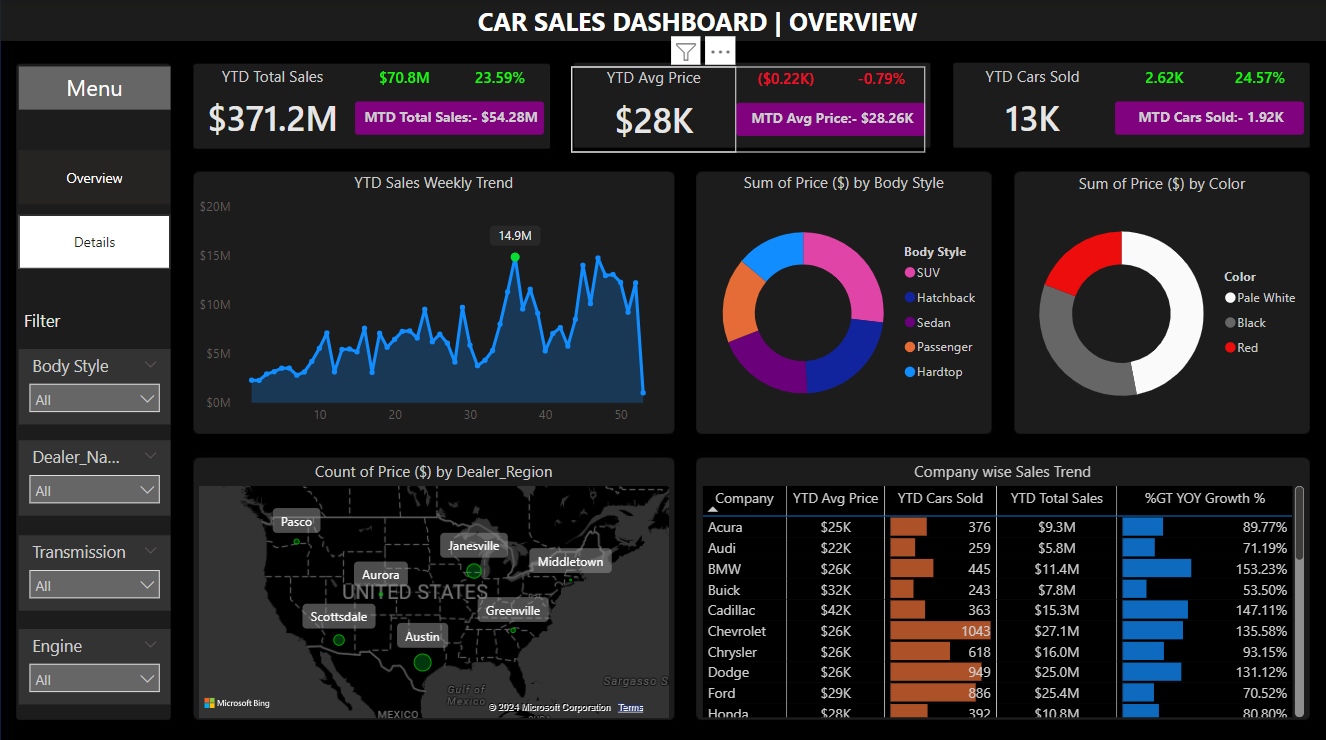

The page's visual inventory and layout, read from the dashboard file:
{"tool":"powerbi","page":{"name":"Overview","canvas":[1280,720],"ordinal":0},"visuals":[{"type":"card","title":"YTD Cars Sold","fields":{"Values":["car_data.YTD Cars Sold"]},"box":[916.3,64,159.3,82.7],"z":0,"group":"g3"},{"type":"group","id":"g1","title":"Group 1","box":[182.7,64.2,342,82.7],"z":0},{"type":"card","title":"YTD Total Sales","fields":{"Values":["car_data.YTD Total Sales"]},"box":[182.7,64.2,159.3,82.7],"z":0,"group":"g1"},{"type":"card","title":"YTD Avg Price","fields":{"Values":["car_data.YTD Avg Price"]},"box":[550.6,65.4,159.3,82.7],"z":0,"group":"g2"},{"type":"card","fields":{"Values":["car_data.Cars sold Difference"]},"box":[1084.2,64,79,28.4],"z":1000,"group":"g3"},{"type":"card","fields":{"Values":["car_data.Sales Difference"]},"box":[350.6,64.2,79,28.4],"z":1000,"group":"g1"},{"type":"group","id":"g2","title":"Group 1","box":[550.6,65.4,342,82.7],"z":1000},{"type":"card","fields":{"Values":["car_data.Avg Price Diff"]},"box":[718.5,65.4,79,28.4],"z":1000,"group":"g2"},{"type":"group","id":"g3","title":"Group 1","box":[916.3,64,342,82.7],"z":2000},{"type":"card","fields":{"Values":["car_data.YOY cars sold growth %"]},"box":[1176.8,64,77.8,28.4],"z":2000,"group":"g3"},{"type":"card","fields":{"Values":["car_data.YOY Growth %"]},"box":[443.2,64.2,77.8,28.4],"z":2000,"group":"g1"},{"type":"card","fields":{"Values":["car_data.YOY Avg Growth %"]},"box":[811.1,65.4,77.8,28.4],"z":2000,"group":"g2"},{"type":"card","fields":{"Values":["car_data.MTD Cars KPI"]},"box":[1075.6,98.6,182.7,32.1],"z":3000,"group":"g3"},{"type":"card","fields":{"Values":["car_data.MTD KPI"]},"box":[342,98.8,182.7,32.1],"z":3000,"group":"g1"},{"type":"card","fields":{"Values":["car_data.MTD avg KPI"]},"box":[709.9,100,182.7,32.1],"z":3000,"group":"g2"},{"type":"areaChart","title":"YTD Sales Weekly Trend","fields":{"Category":["calendar_table.Week"],"Y":["Sum(car_data.Price ($))","car_data.Max Point"]},"box":[187.3,166.7,463.3,253.3],"z":3000},{"type":"donutChart","fields":{"Category":["car_data.Body Style"],"Y":["Sum(car_data.Price ($))"]},"box":[672.7,166.8,282.3,253.2],"z":4000},{"type":"donutChart","fields":{"Y":["Sum(car_data.Price ($))"],"Category":["car_data.Color"]},"box":[977.7,167.7,286.2,252.3],"z":5000},{"type":"map","fields":{"Category":["car_data.Dealer_Region"],"Size":["CountNonNull(car_data.Price ($))"]},"box":[187.4,444.8,463.2,254],"z":6000},{"type":"tableEx","title":"Company wise Sales Trend","fields":{"Values":["car_data.Company","car_data.YTD Avg Price","car_data.YTD Cars Sold","car_data.YTD Total Sales","car_data.YOY Growth %"]},"box":[672.3,445.4,591.5,253.1],"z":7000},{"type":"textbox","box":[451.2,0,443.8,42.5],"z":8000},{"type":"slicer","fields":{"Values":["car_data.Body Style"]},"box":[17.5,337.5,146.2,72.5],"z":9000},{"type":"slicer","fields":{"Values":["car_data.Dealer_Name","car_data.Transmission"]},"box":[17.5,426.2,146.2,72.5],"z":10000},{"type":"slicer","fields":{"Values":["car_data.Transmission"]},"box":[17.5,517.5,146.2,72.5],"z":11000},{"type":"slicer","fields":{"Values":["car_data.Engine"]},"box":[17.5,607.5,146.2,72.5],"z":12000},{"type":"pageNavigator","box":[17.5,146.2,146.2,115],"z":13000},{"type":"textbox","box":[17.5,293.8,73.8,35],"z":14000},{"type":"textbox","box":[17.5,65,146.2,41.2],"z":15000}]}

Visuals, with their boxes in screenshot pixels (x1, y1, x2, y2), scaled from the page's 1280x720 canvas onto the 1326x740 screenshot:
"YTD Cars Sold" card: <region>949, 66, 1114, 151</region>
"Group 1" group: <region>189, 66, 544, 151</region>
"YTD Total Sales" card: <region>189, 66, 354, 151</region>
"YTD Avg Price" card: <region>570, 67, 735, 152</region>
card - car_data.Cars sold Difference: <region>1123, 66, 1205, 95</region>
card - car_data.Sales Difference: <region>363, 66, 445, 95</region>
"Group 1" group: <region>570, 67, 925, 152</region>
card - car_data.Avg Price Diff: <region>744, 67, 826, 96</region>
"Group 1" group: <region>949, 66, 1304, 151</region>
card - car_data.YOY cars sold growth %: <region>1219, 66, 1300, 95</region>
card - car_data.YOY Growth %: <region>459, 66, 540, 95</region>
card - car_data.YOY Avg Growth %: <region>840, 67, 921, 96</region>
card - car_data.MTD Cars KPI: <region>1114, 101, 1304, 134</region>
card - car_data.MTD KPI: <region>354, 102, 544, 135</region>
card - car_data.MTD avg KPI: <region>735, 103, 925, 136</region>
"YTD Sales Weekly Trend" areaChart: <region>194, 171, 674, 432</region>
donutChart - car_data.Body Style x Sum(car_data.Price ($)): <region>697, 171, 989, 432</region>
donutChart - Sum(car_data.Price ($)) x car_data.Color: <region>1013, 172, 1309, 432</region>
map - car_data.Dealer_Region x CountNonNull(car_data.Price ($)): <region>194, 457, 674, 718</region>
"Company wise Sales Trend" tableEx: <region>696, 458, 1309, 718</region>
textbox: <region>467, 0, 927, 44</region>
slicer - car_data.Body Style: <region>18, 347, 170, 421</region>
slicer - car_data.Dealer_Name x car_data.Transmission: <region>18, 438, 170, 513</region>
slicer - car_data.Transmission: <region>18, 532, 170, 606</region>
slicer - car_data.Engine: <region>18, 624, 170, 699</region>
pageNavigator: <region>18, 150, 170, 268</region>
textbox: <region>18, 302, 95, 338</region>
textbox: <region>18, 67, 170, 109</region>
